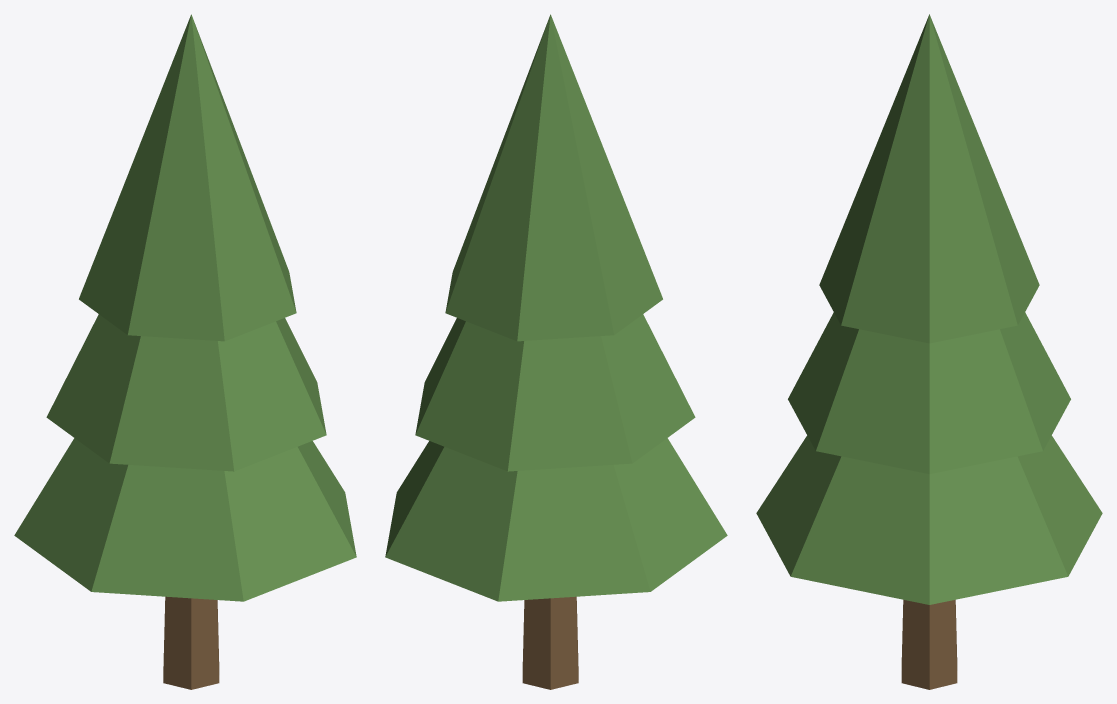
File: tree_conifer_01.glb
The picture shows the model from 3 angles, left to right: view 1: azimuth 30°, elevation 25°; view 2: azimuth 150°, elevation 25°; view 3: azimuth 270°, elevation 25°; orthographic projection.
Size of the model in its own units: 2.09 by 4.53 by 2.14.
